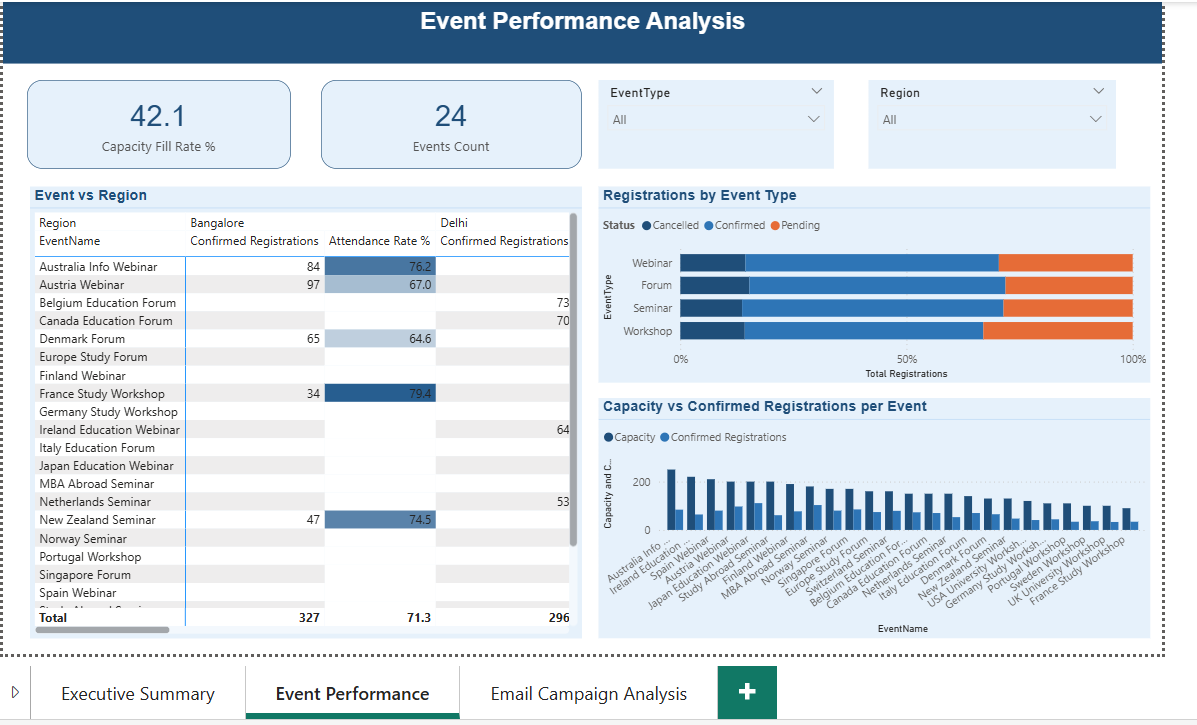

The dashboard page shown, as its layout file describes it:
{"tool":"powerbi","page":{"name":"Event Performance","canvas":[1280,720],"ordinal":1},"visuals":[{"type":"textbox","box":[0,0,1280.5,67.9],"z":0},{"type":"pivotTable","title":"Event vs Region","fields":{"Rows":["Dim_Events.EventName"],"Columns":["Dim_Events.Region"],"Values":["_Measures.Confirmed Registrations","_Measures.Attendance Rate %"]},"box":[29.8,203.7,609.6,498.6],"z":1000},{"type":"clusteredColumnChart","title":"Capacity vs Confirmed Registrations per Event","fields":{"Category":["Dim_Events.EventName"],"Y":["Sum(Dim_Events.Capacity)","_Measures.Confirmed Registrations"]},"box":[657.6,437.3,609.6,265],"z":2000},{"type":"hundredPercentStackedBarChart","title":"Registrations by Event Type","fields":{"Category":["Dim_Events.EventType"],"Y":["_Measures.Total Registrations"],"Series":["Fact_Registrations.Status"]},"box":[657.6,203.7,609.6,217],"z":3000},{"type":"slicer","fields":{"Values":["Dim_Events.EventType"]},"box":[657.6,86.1,260.1,97.7],"z":4000},{"type":"slicer","fields":{"Values":["Dim_Events.Region"]},"box":[955.8,86.1,273.3,97.7],"z":5000},{"type":"card","fields":{"Values":["_Measures.Capacity Fill Rate %"]},"box":[26.5,86.1,291.5,97.7],"z":6000},{"type":"card","fields":{"Values":["_Measures.Events Count"]},"box":[351.2,86.1,288.2,97.7],"z":7000}]}

Visuals, with their boxes on the page's 1280x720 design canvas (x1, y1, x2, y2). These are canvas units, not pixel positions in the 1197x725 screenshot, which may show the page scaled, cropped or inside an application window:
textbox: x1=0, y1=0, x2=1280, y2=68
"Event vs Region" pivotTable: x1=30, y1=204, x2=639, y2=702
"Capacity vs Confirmed Registrations per Event" clusteredColumnChart: x1=658, y1=437, x2=1267, y2=702
"Registrations by Event Type" hundredPercentStackedBarChart: x1=658, y1=204, x2=1267, y2=421
slicer - Dim_Events.EventType: x1=658, y1=86, x2=918, y2=184
slicer - Dim_Events.Region: x1=956, y1=86, x2=1229, y2=184
card - _Measures.Capacity Fill Rate %: x1=26, y1=86, x2=318, y2=184
card - _Measures.Events Count: x1=351, y1=86, x2=639, y2=184
